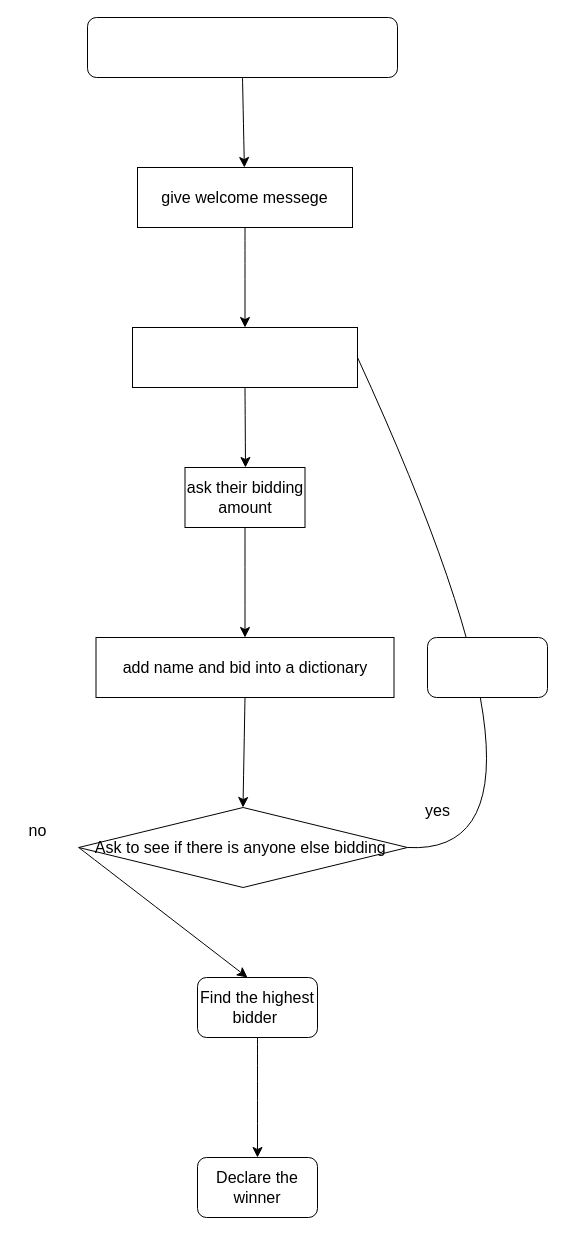
The diagram is 565 pixels wide and 1235 high, and some of its shapes have lost their labels. The shapes that lost their labels are listed below. From the top down, each one's box as (x1, y1, x2, y2) in pixels, then its label:
(86, 16, 398, 78): Start
(132, 326, 358, 388): ask the name of the contender
(426, 636, 548, 698): Clear the screen
